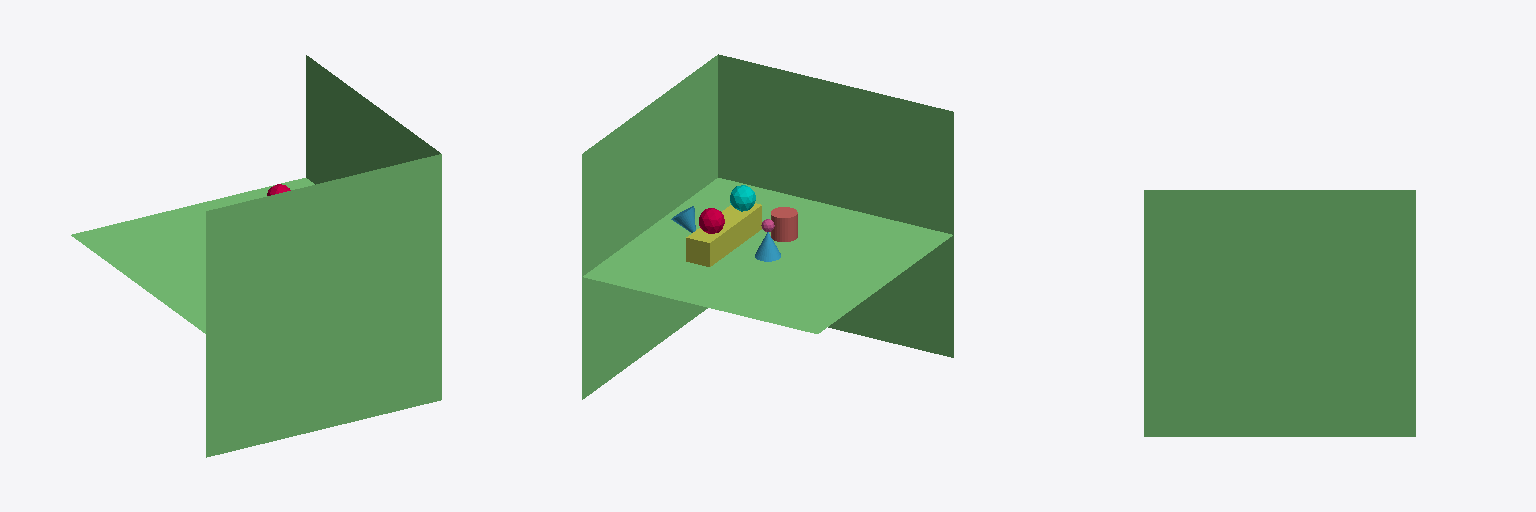
File: abstract.obj
The picture shows the model from 3 angles: view 1: azimuth 30°, elevation 25°; view 2: azimuth 150°, elevation 25°; view 3: azimuth 270°, elevation 25°; orthographic projection.
Parts seen in each view (by area): view 1: Plane, Plane.001_Plane.002, Plane.002_Plane.003; view 2: Plane, Plane.001_Plane.002, Plane.002_Plane.003, Cube_Cube.001, Cylinder, Icosphere.001_Icosphere.003, Icosphere.002; view 3: Plane.002_Plane.003.
Boxes of the visible parts, x1,y1,x2,y2 form: Plane: [206, 154, 441, 457]; Plane.001_Plane.002: [71, 178, 314, 333]; Plane.002_Plane.003: [306, 55, 440, 184]; Plane: [718, 54, 953, 357]; Plane.001_Plane.002: [583, 178, 952, 333]; Plane.002_Plane.003: [582, 55, 717, 399]; Cube_Cube.001: [686, 203, 761, 266]; Cylinder: [771, 207, 797, 241]; Icosphere.001_Icosphere.003: [730, 185, 755, 211]; Icosphere.002: [699, 208, 724, 233]; Plane.002_Plane.003: [1144, 190, 1415, 436].
Bounding box in the file's own units: 20 × 20 × 20.